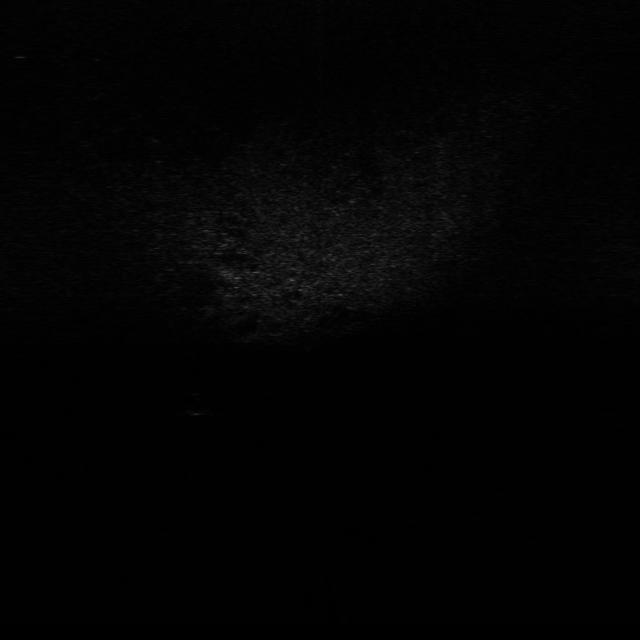ball: (176, 389, 214, 419)
